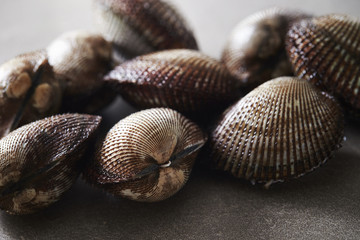cockle: (209, 72, 350, 188), (83, 106, 210, 205), (1, 113, 103, 219), (101, 45, 243, 113), (285, 12, 360, 108), (219, 6, 310, 85), (41, 29, 120, 112), (97, 1, 204, 60), (1, 46, 65, 138)
